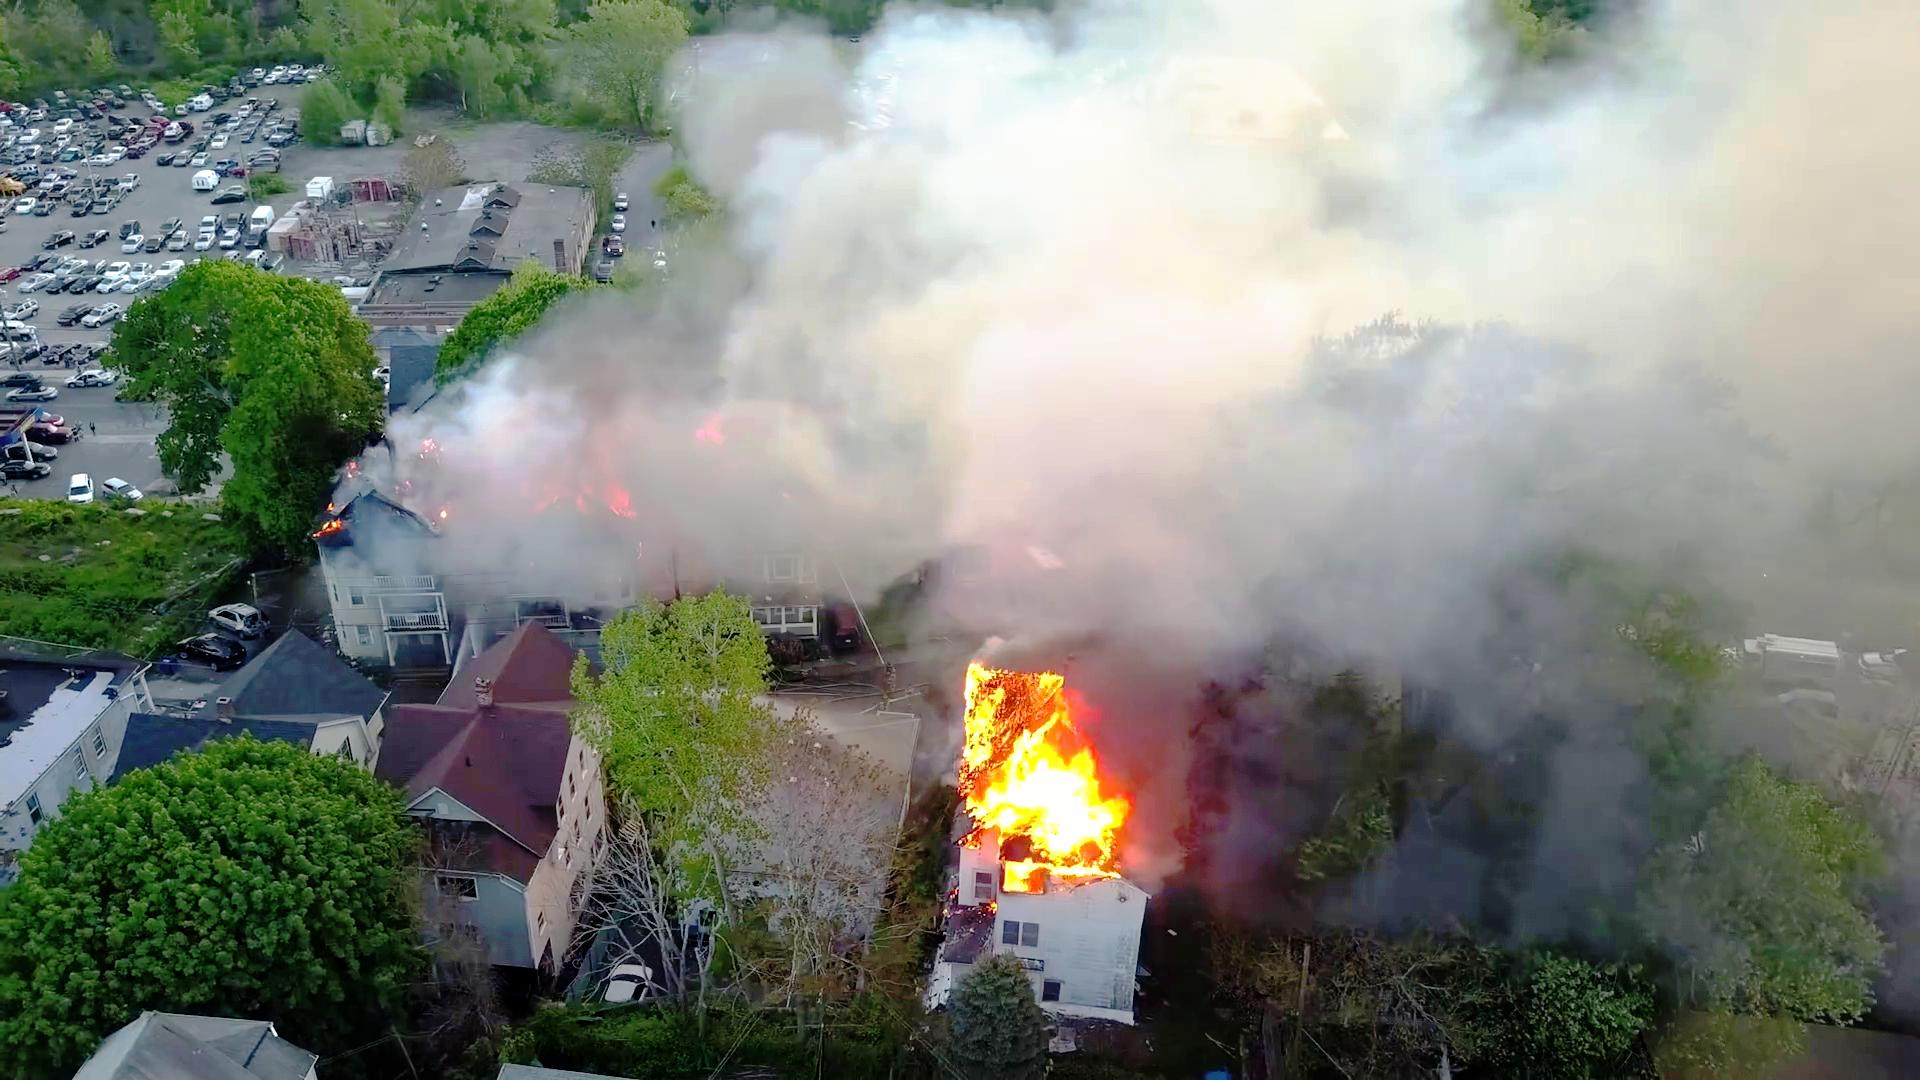fire: (955, 649, 1120, 897)
smoke: (591, 256, 1163, 464)
